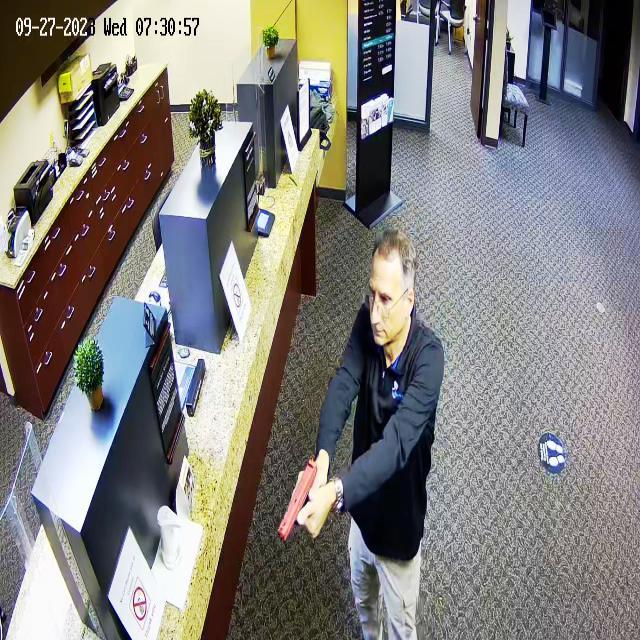Gun: (267, 438, 335, 554)
